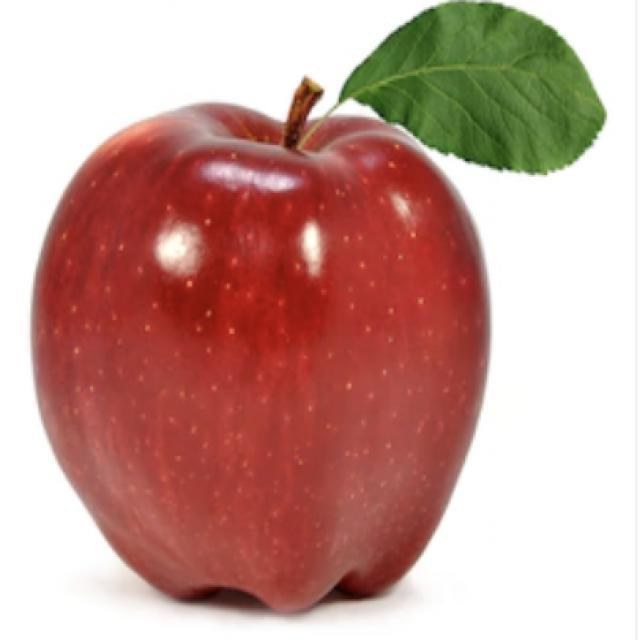Fresh Apple: (47, 100, 495, 605)
